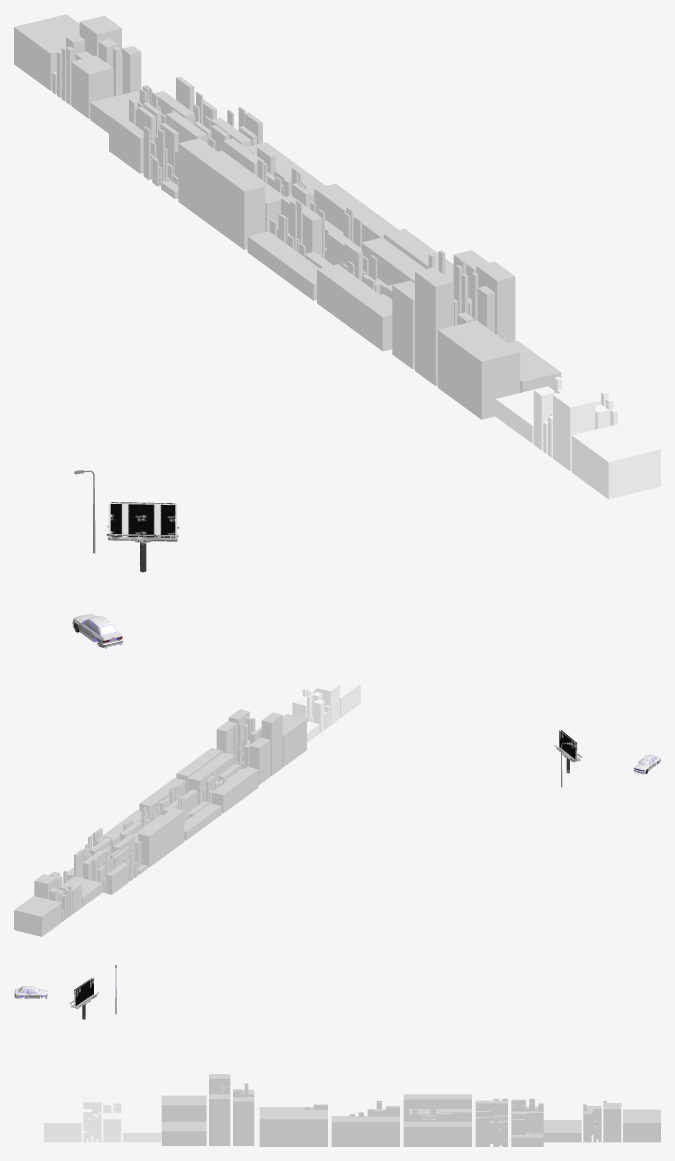
The model's file is SINCITY.gltf.
3 renders of one model, top to bottom at view 1: azimuth 30°, elevation 25°; view 2: azimuth 150°, elevation 25°; view 3: azimuth 270°, elevation 25°, orthographic. The views are drawn at different scales.
Visible parts, largest first — view 1: CITY 3, CITY 2, CITY 1, CITY 1 AG, BILLBOARD; view 2: CITY 3, CITY 2, CITY 1 AG, CITY 1, BILLBOARD; view 3: CITY 3, CITY 2, CITY 1, CITY 1 AG, BILLBOARD, 555.001.
Part boxes in pixels (x1,y1,x2,y2): CITY 3: [109, 76, 453, 351]; CITY 2: [392, 250, 561, 419]; CITY 1: [495, 376, 660, 499]; CITY 1 AG: [14, 14, 141, 133]; BILLBOARD: [106, 502, 179, 572]; CITY 3: [67, 747, 258, 894]; CITY 2: [216, 709, 306, 784]; CITY 1 AG: [14, 870, 102, 936]; CITY 1: [292, 677, 360, 742]; BILLBOARD: [554, 729, 581, 773]; CITY 3: [259, 1094, 543, 1146]; CITY 2: [161, 1074, 254, 1145]; CITY 1: [44, 1096, 160, 1142]; CITY 1 AG: [543, 1100, 660, 1142]; BILLBOARD: [69, 977, 98, 1019]; 555.001: [14, 986, 48, 998].
Size of what is drawn, in the model's own units: 46.16 by 7.37 by 82.33.
Materials: 21 (9 with a texture image).
